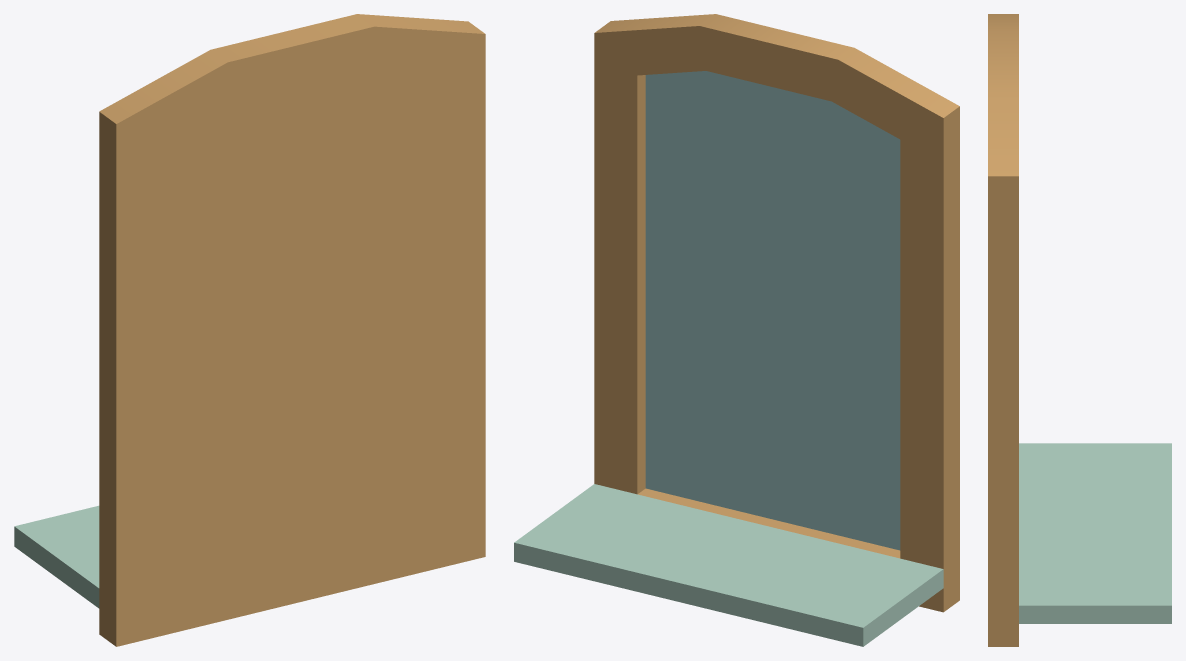
Rendered from bathroomMirror.glb.
3 views of the same model, side by side, from view 1: azimuth 30°, elevation 25°; view 2: azimuth 150°, elevation 25°; view 3: azimuth 270°, elevation 25° (orthographic). The views are drawn at different scales.
Size of the model in its own units: 3.01 by 4.35 by 1.44.
